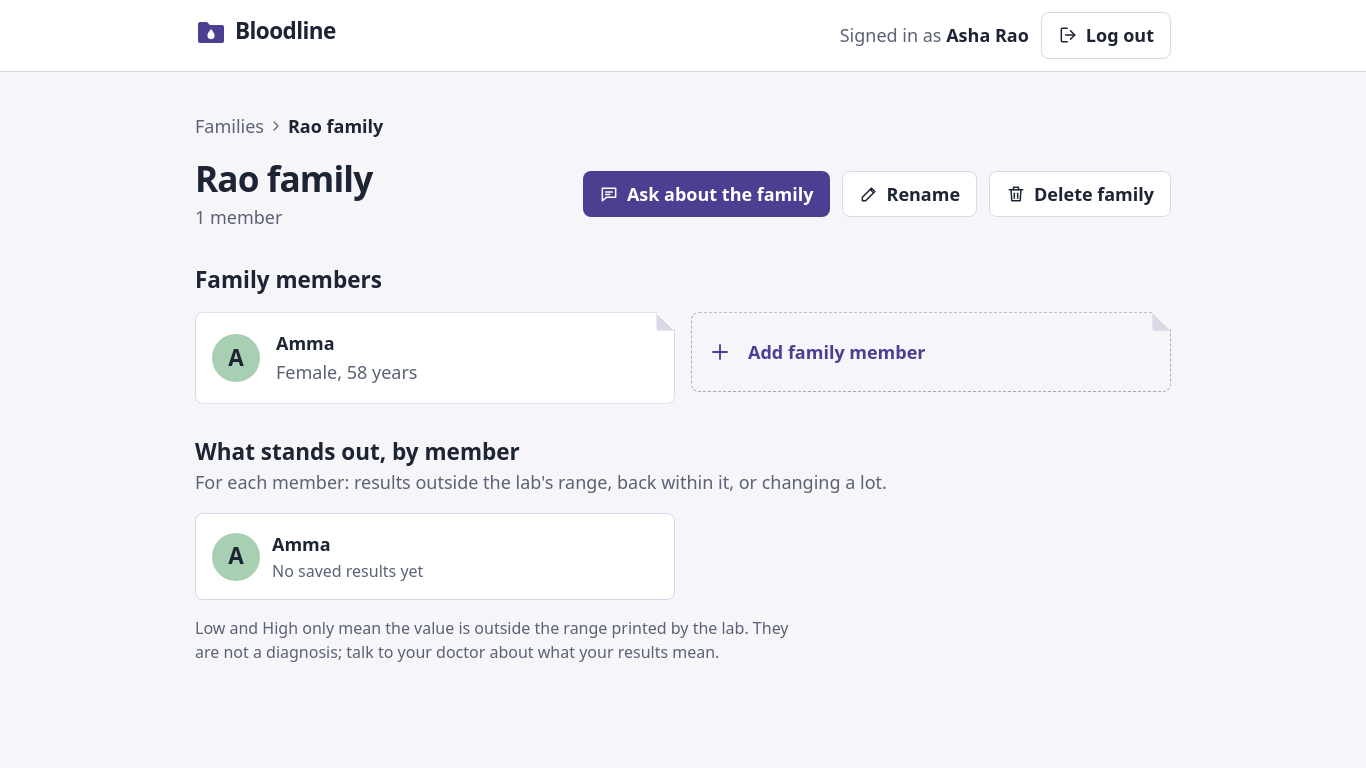
Test case: members of a family › show field errors returned by the server
The width and height of the screenshot is (1366, 768).
Click the button "Add family member": [931, 352] box [691,312,1171,392]
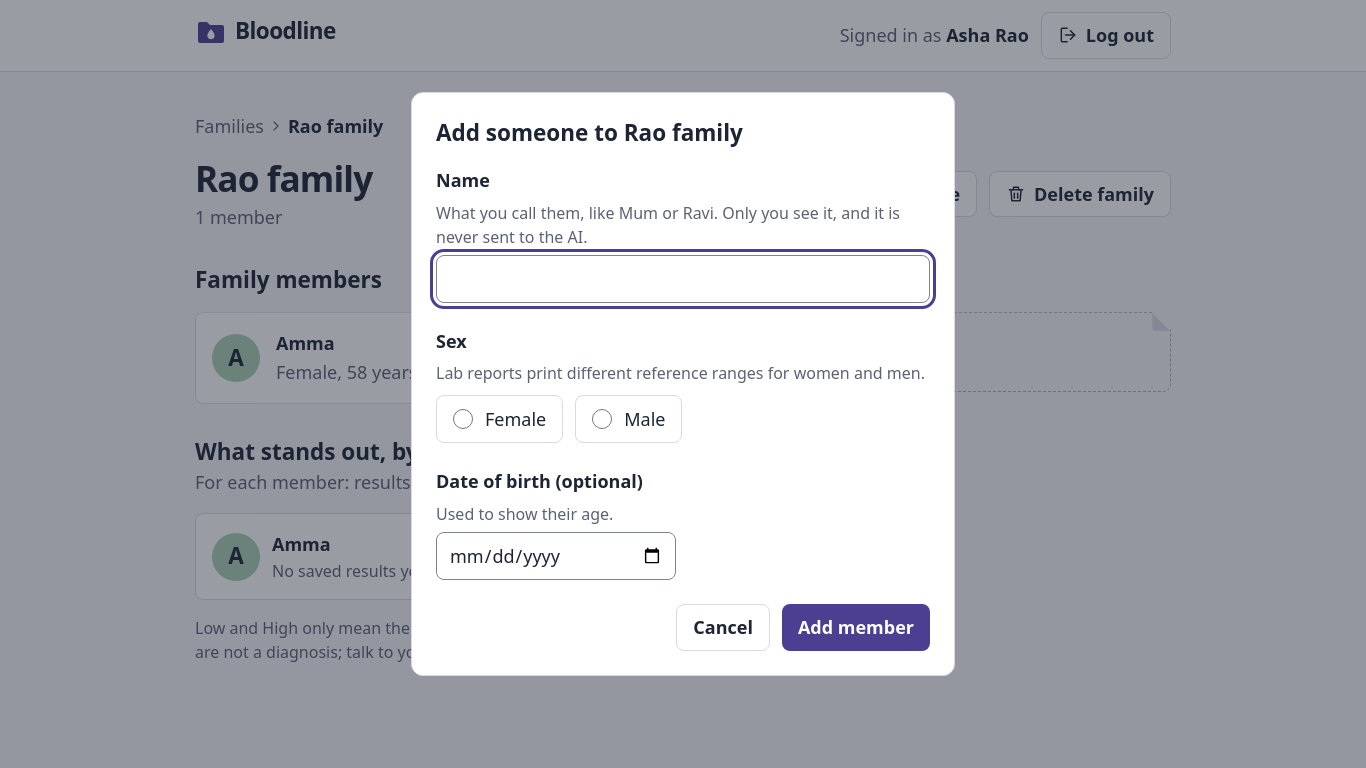
In the field labelled "Name": [683, 278] box [436,254,930,302], type "Ravi"
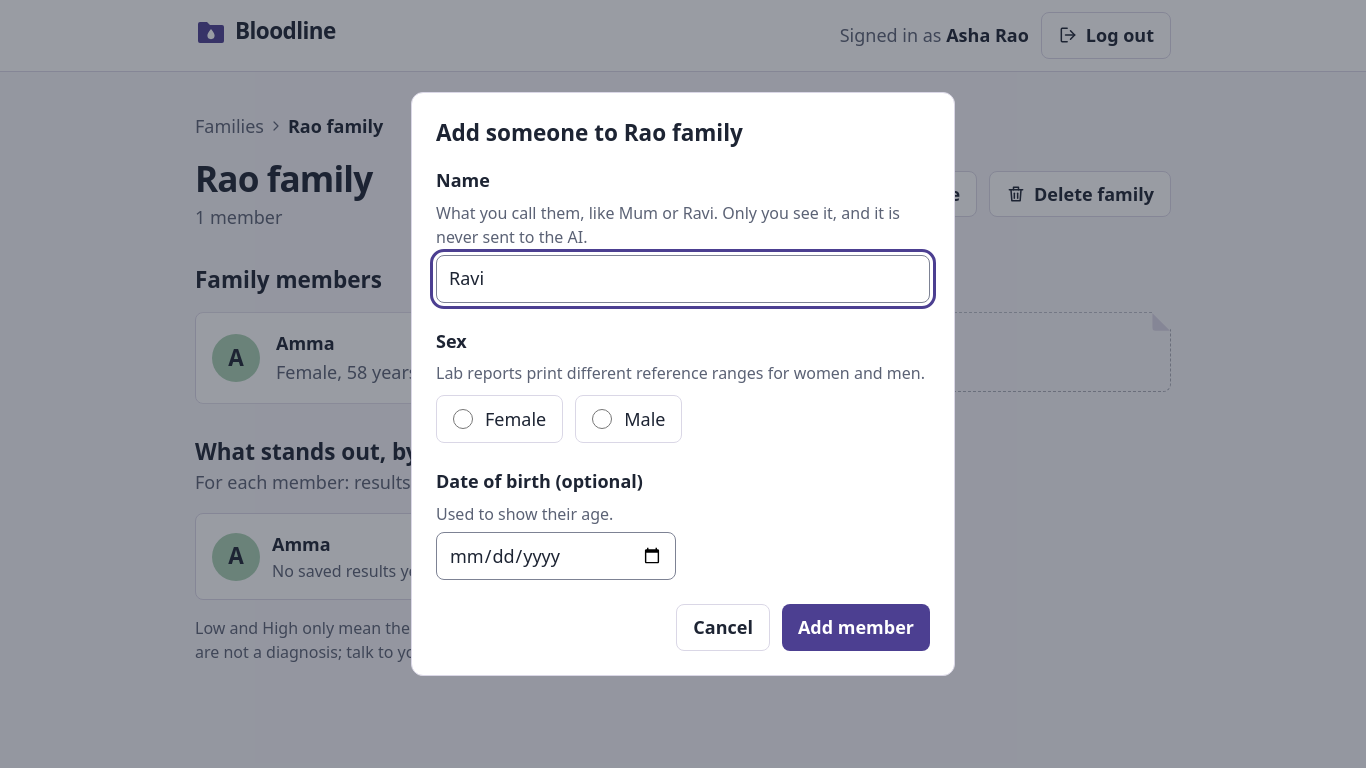
Click the radio button labelled "Male": [602, 419] box [592,409,612,429]
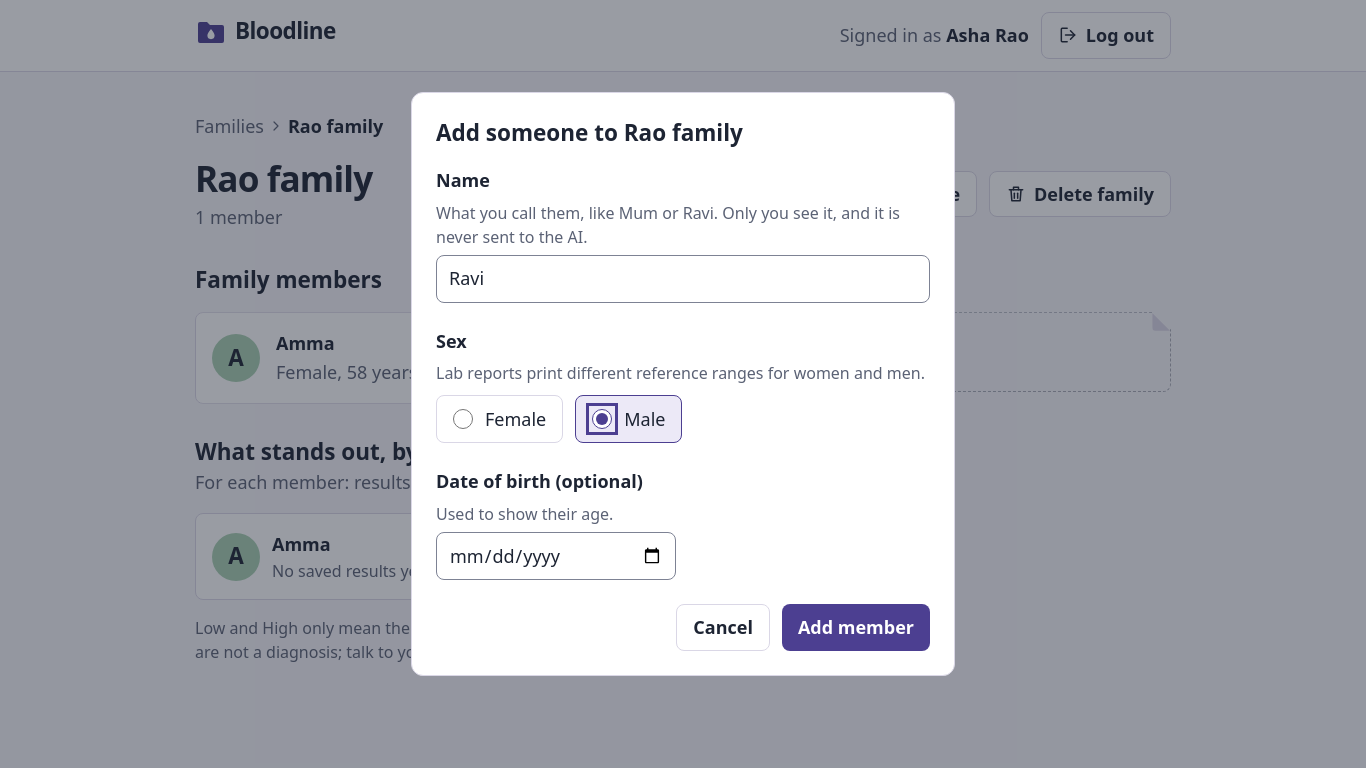
In the date field labelled "Date of birth (optional)": [556, 556] box [436,532,676,580], type "1990-01-01"
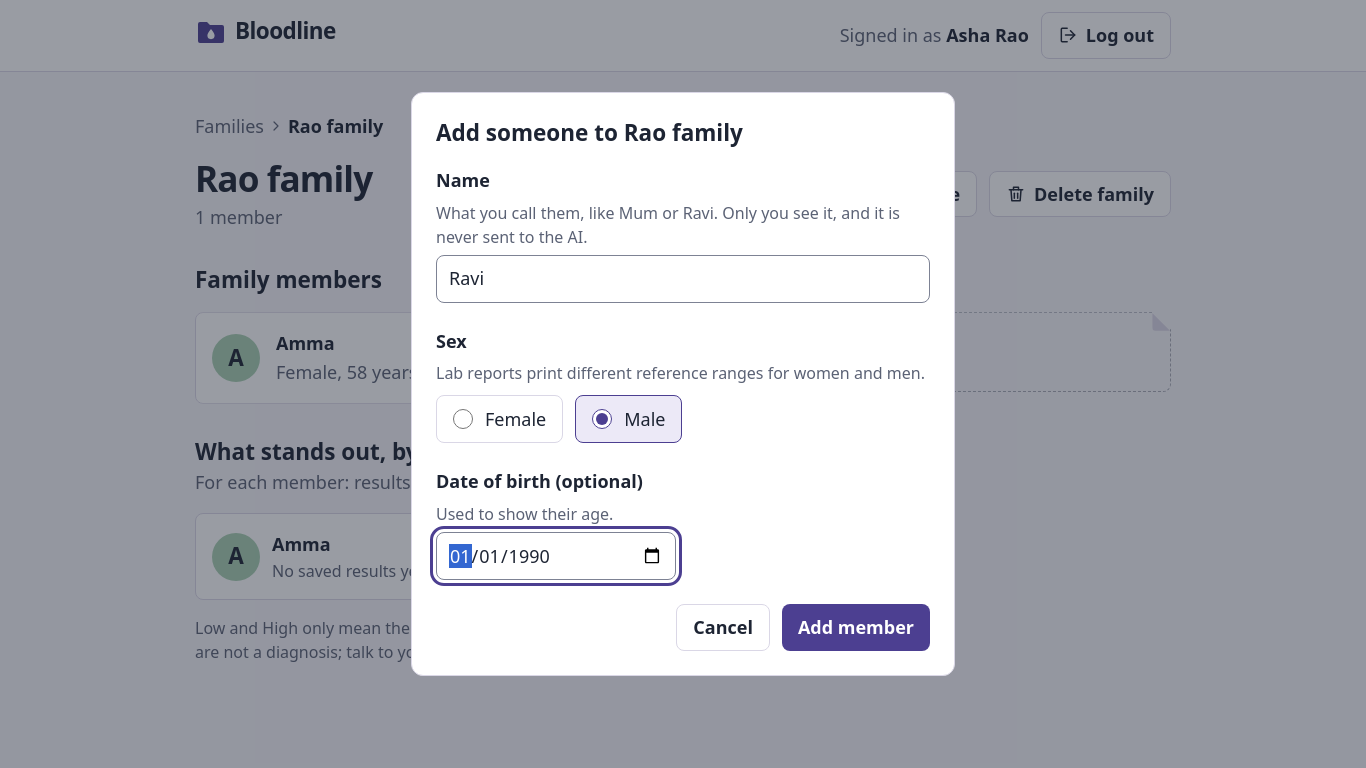
Click the button "Add member": [856, 628] box [782,604,930,651]
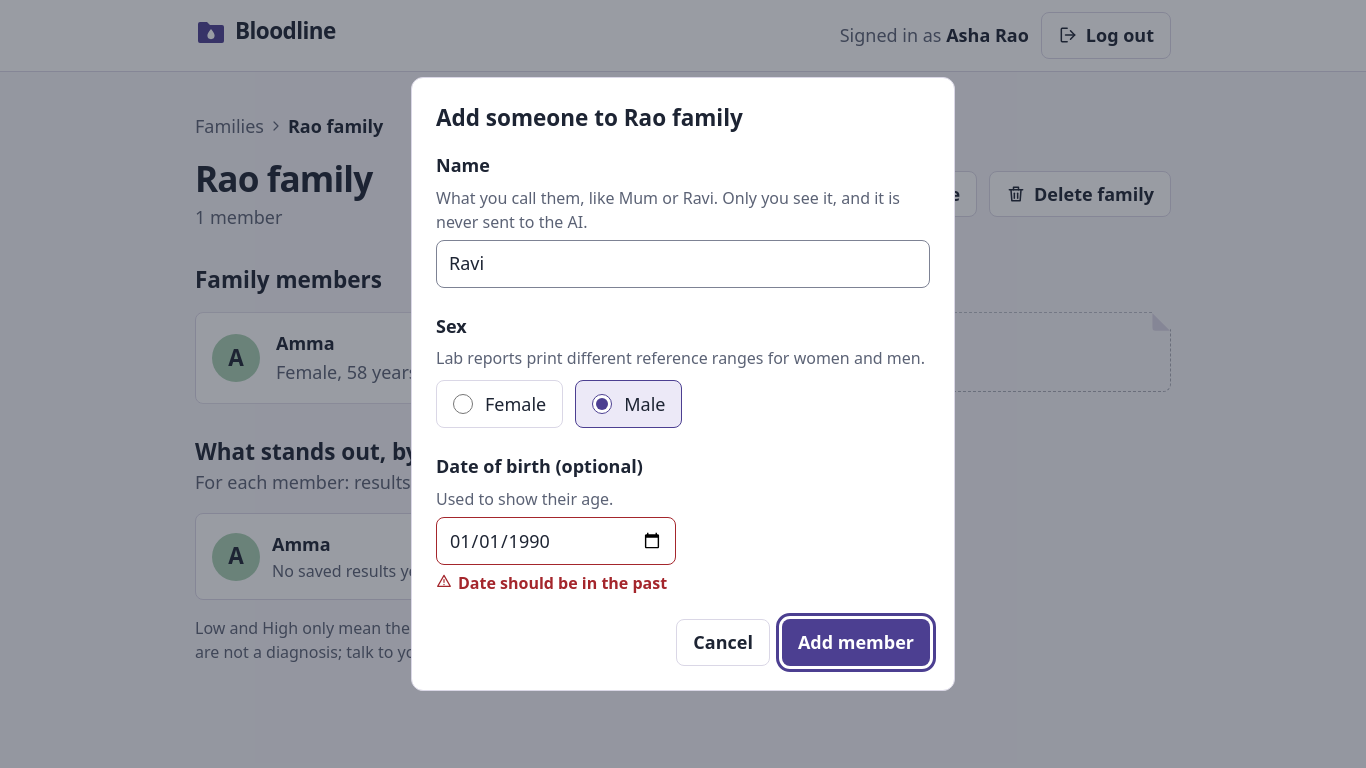
Now the text "Date should be in the past" is shown, box [436,572,667,594]
